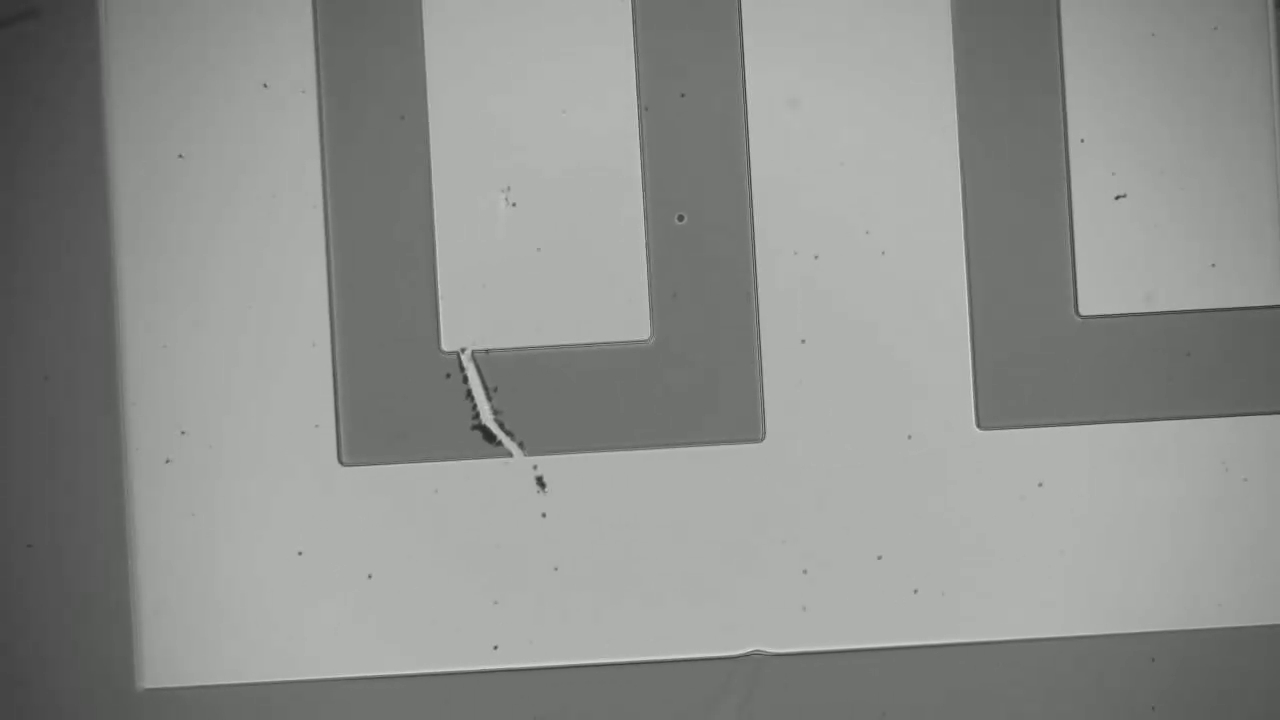Short_circuit: (442, 338, 559, 480)
